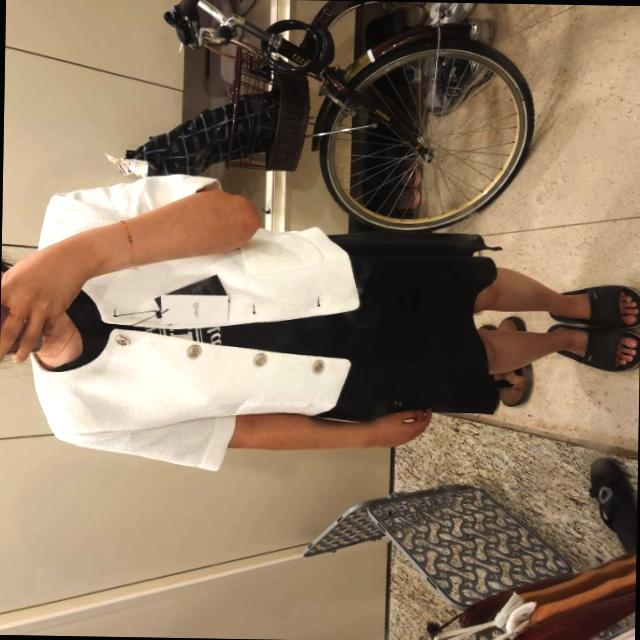blazer: (21, 171, 361, 474)
skirt: (294, 222, 506, 428)
